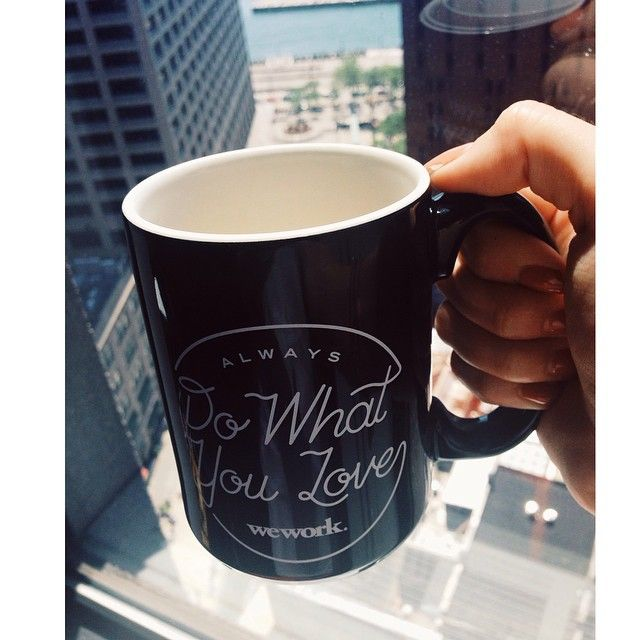wework: (243, 516, 343, 541)
